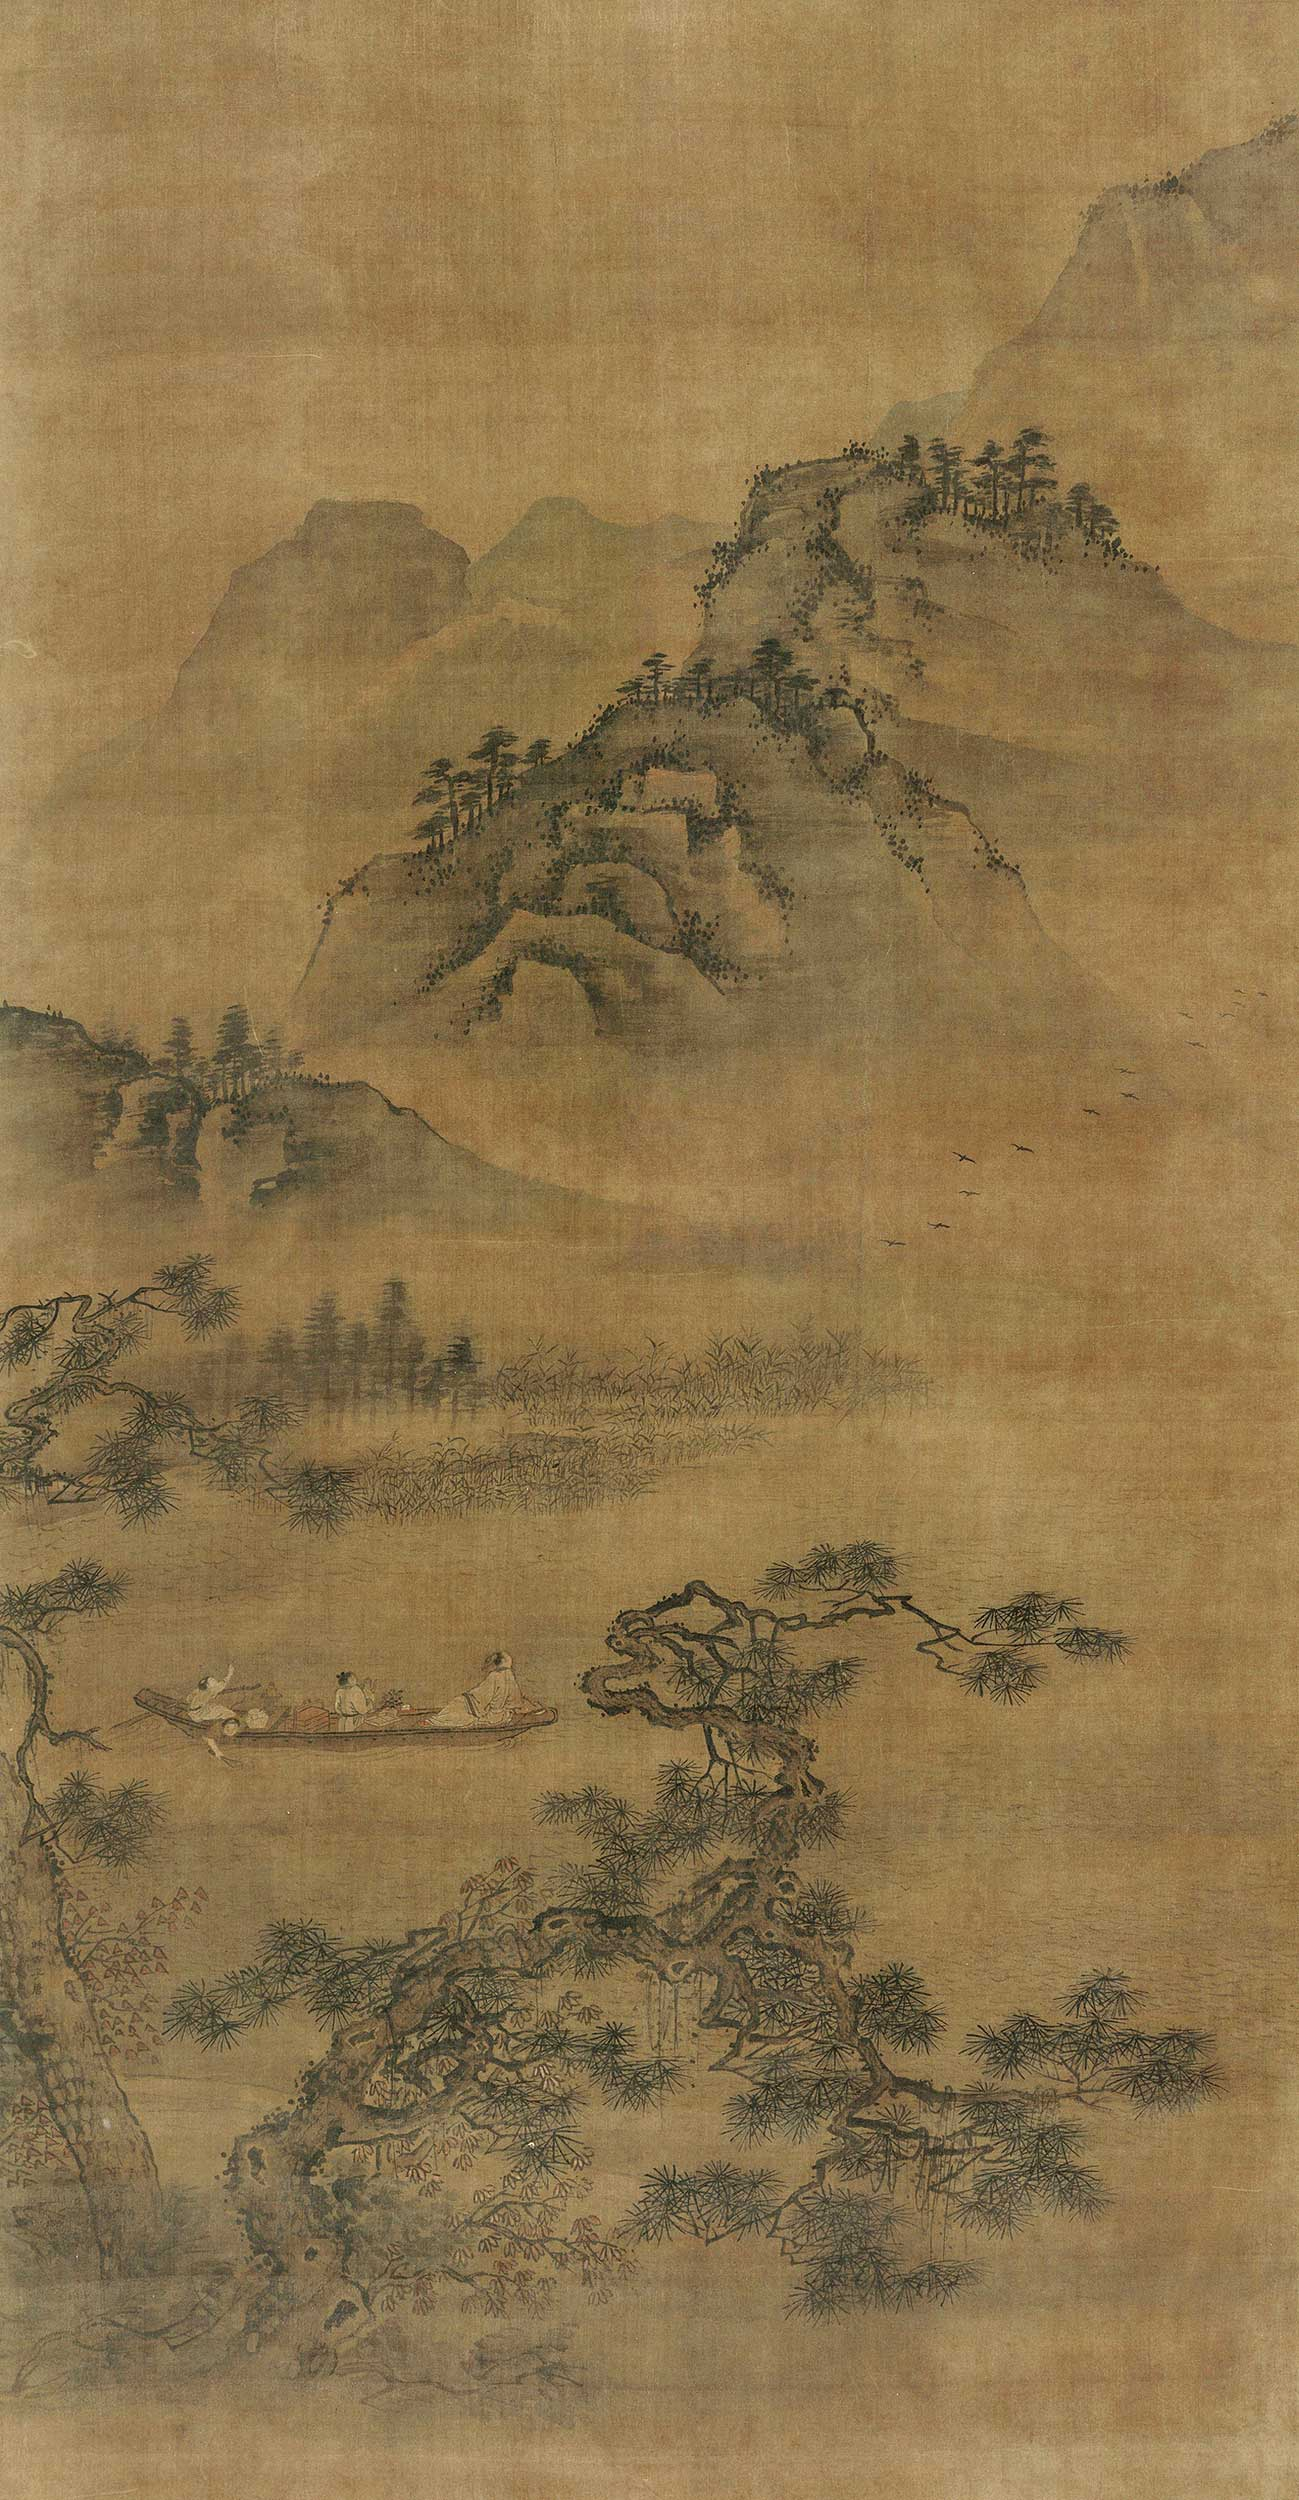boat: (151, 1603, 573, 1784)
kid: (176, 1662, 243, 1719), (204, 1710, 262, 1756), (332, 1671, 373, 1737)
man: (418, 1637, 538, 1743)
pine: (232, 1579, 1201, 2359), (1, 1273, 350, 2282), (145, 1302, 535, 1432), (934, 425, 1126, 567), (126, 1020, 323, 1094), (398, 733, 539, 832)
range: (17, 133, 1299, 1236)
river: (186, 1517, 1299, 1987)
